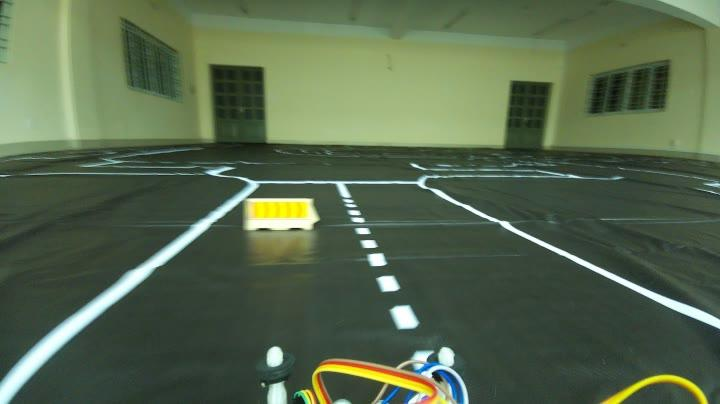roadblock: (242, 195, 320, 229)
